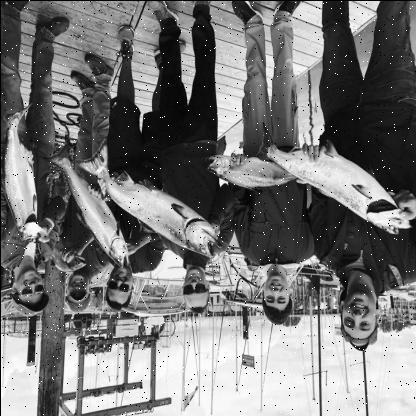fish: (254, 121, 413, 237), (76, 140, 218, 258), (44, 136, 132, 270), (0, 104, 42, 240), (202, 153, 313, 193)
